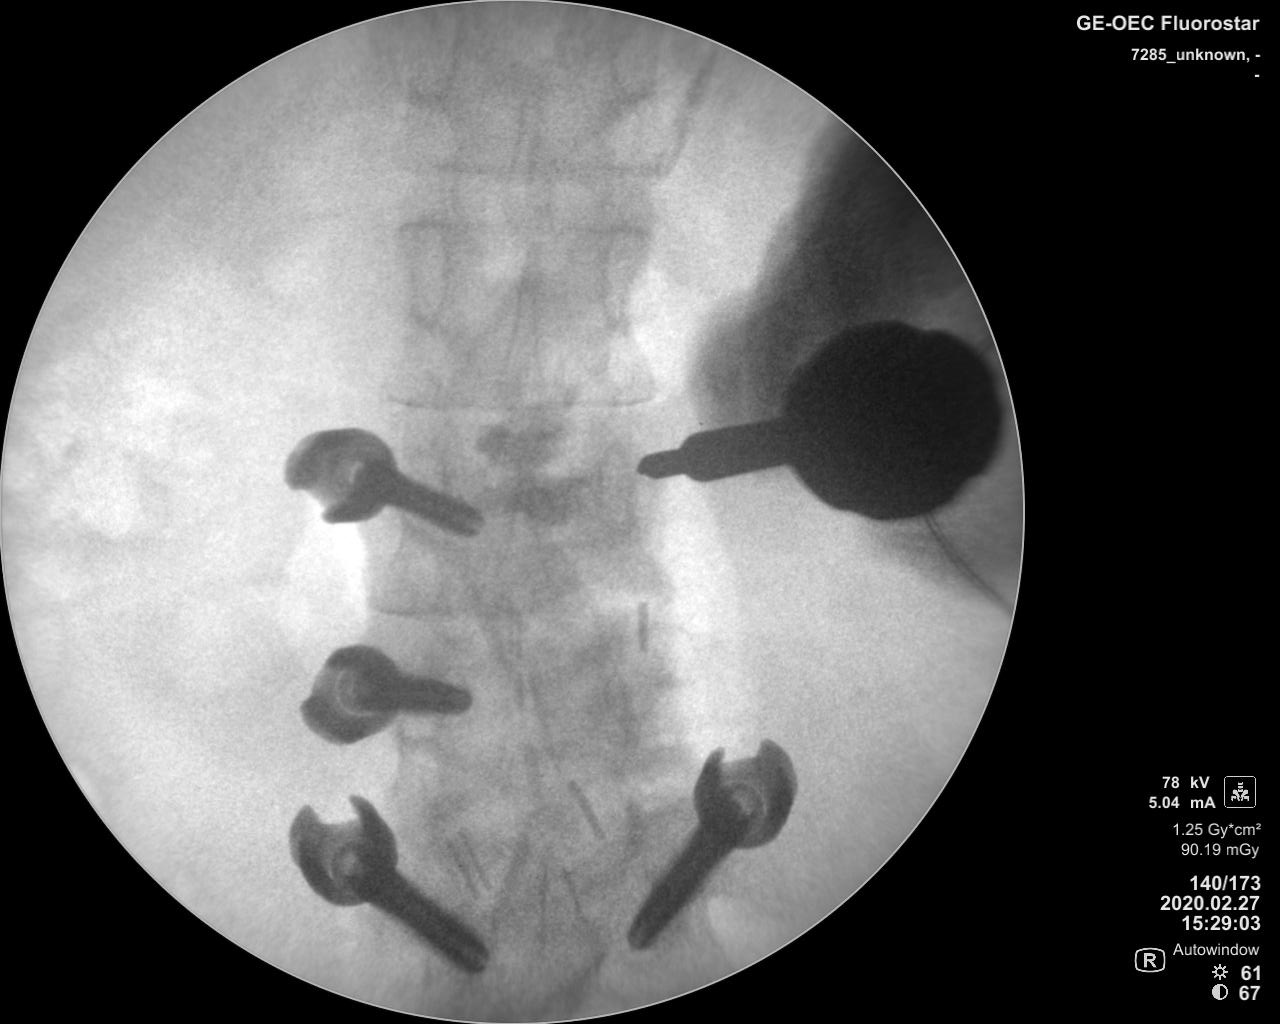eyes: (401, 222, 453, 329), (395, 10, 455, 97), (598, 224, 650, 322), (606, 17, 661, 101), (594, 444, 639, 530)
line: (383, 387, 661, 413), (415, 155, 679, 182), (395, 214, 658, 238)
nose: (494, 267, 551, 427), (501, 464, 554, 621), (503, 82, 557, 216)
